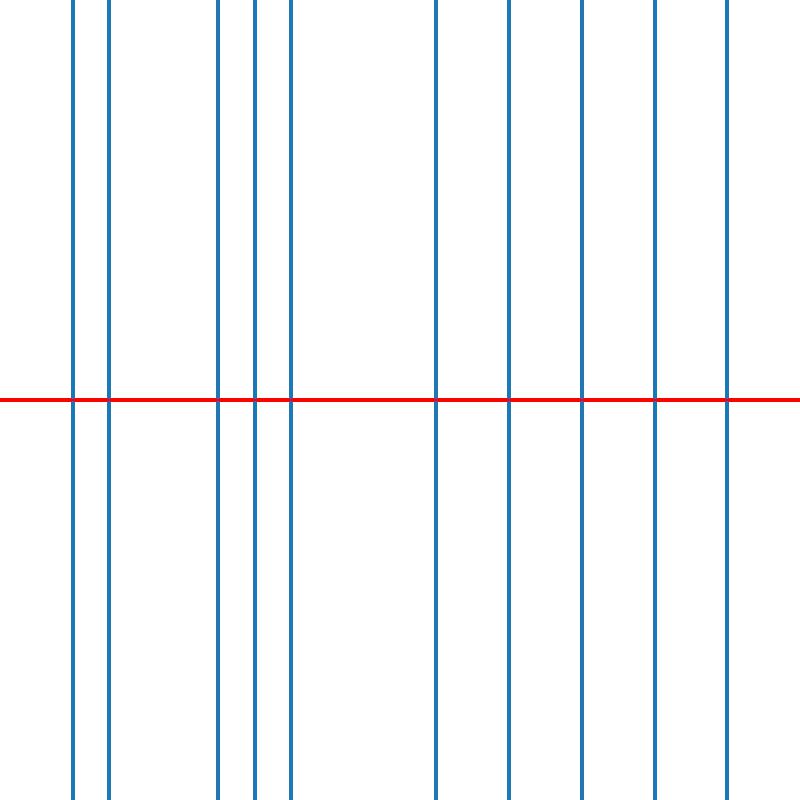root: (650, 396, 658, 404), (432, 396, 440, 404), (250, 396, 258, 404), (214, 396, 221, 404), (69, 396, 76, 404), (287, 396, 294, 404), (105, 396, 112, 404), (505, 396, 512, 404), (578, 396, 585, 404), (723, 396, 730, 404)
